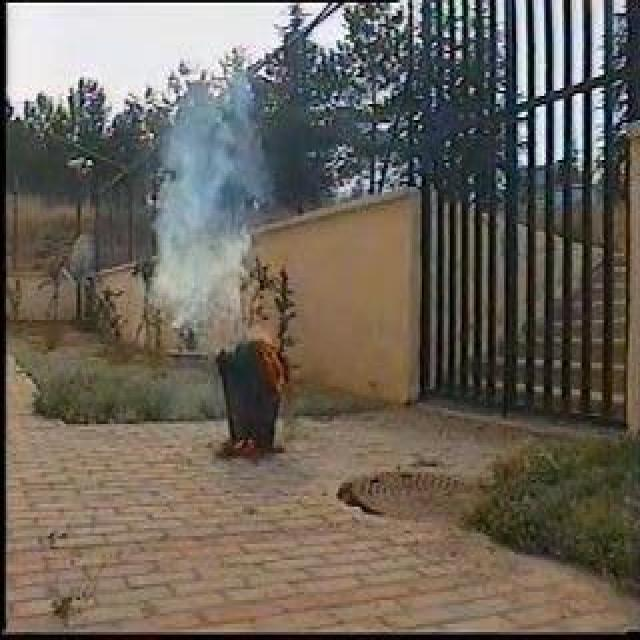Smoke: (152, 79, 254, 332)
